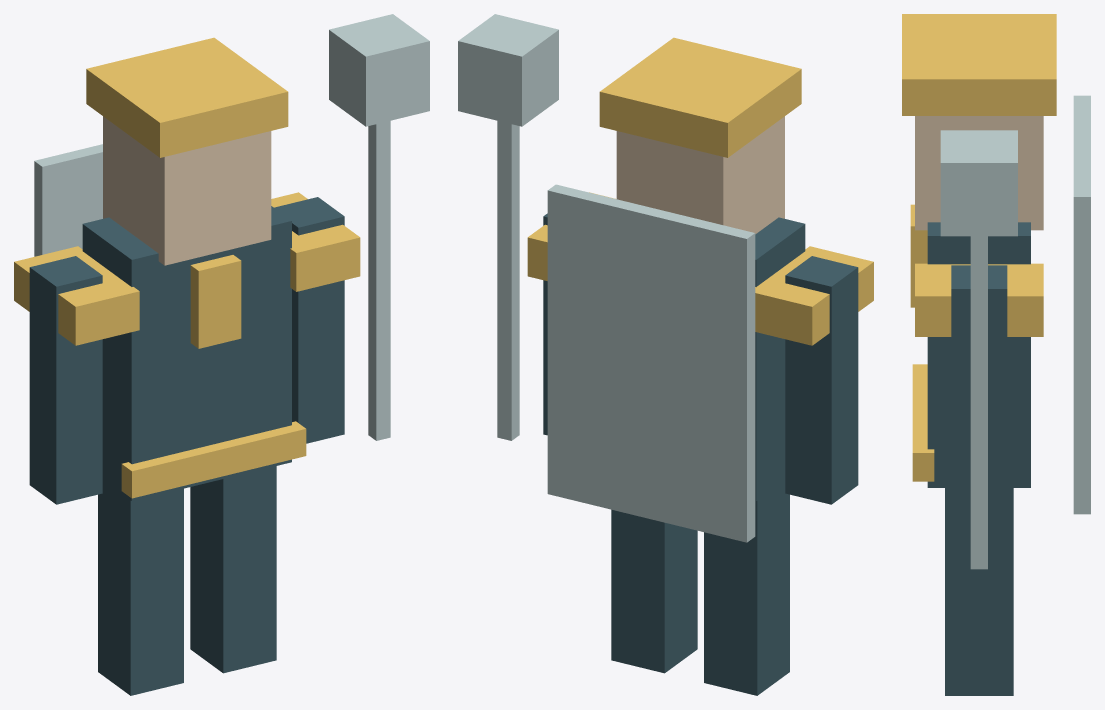
Rendered from 09_edda_cragwarden_engineer_at_echoing.glb.
3 renders of one model, left to right at view 1: azimuth 30°, elevation 25°; view 2: azimuth 150°, elevation 25°; view 3: azimuth 270°, elevation 25°, orthographic. The views are drawn at different scales.
Visible parts, largest first — view 1: Edda Cragwarden, Engineer at Echoing; view 2: Edda Cragwarden, Engineer at Echoing; view 3: Edda Cragwarden, Engineer at Echoing.
Part boxes in pixels (x1,y1,x2,y2): Edda Cragwarden, Engineer at Echoing: (14,14,429,695); Edda Cragwarden, Engineer at Echoing: (458,14,873,695); Edda Cragwarden, Engineer at Echoing: (902,14,1090,695).
Bounding box in the file's own units: 1.09 × 1.65 × 0.4629.
